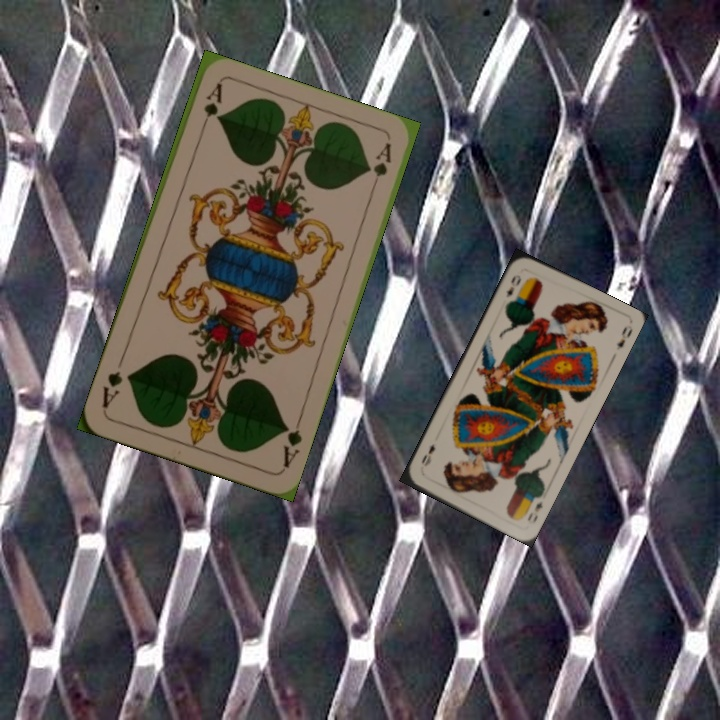EO: (502, 270, 524, 300), (523, 497, 545, 526)
GA: (195, 80, 225, 138), (279, 414, 305, 470)
